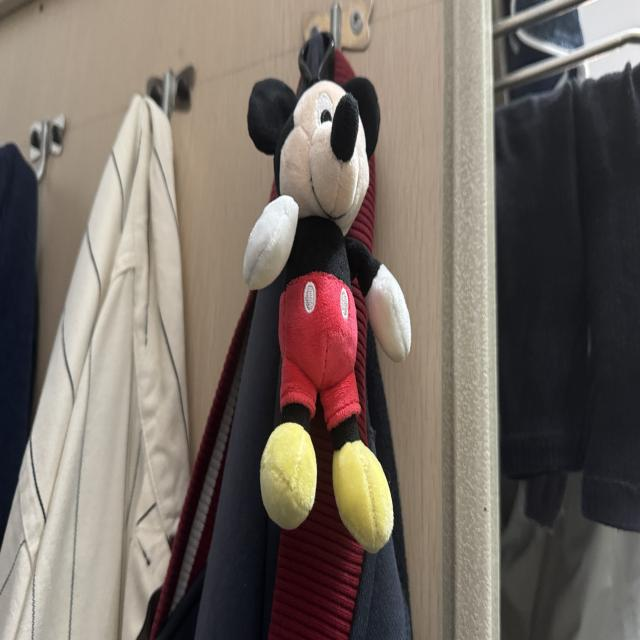mickey: (244, 78, 410, 552)
